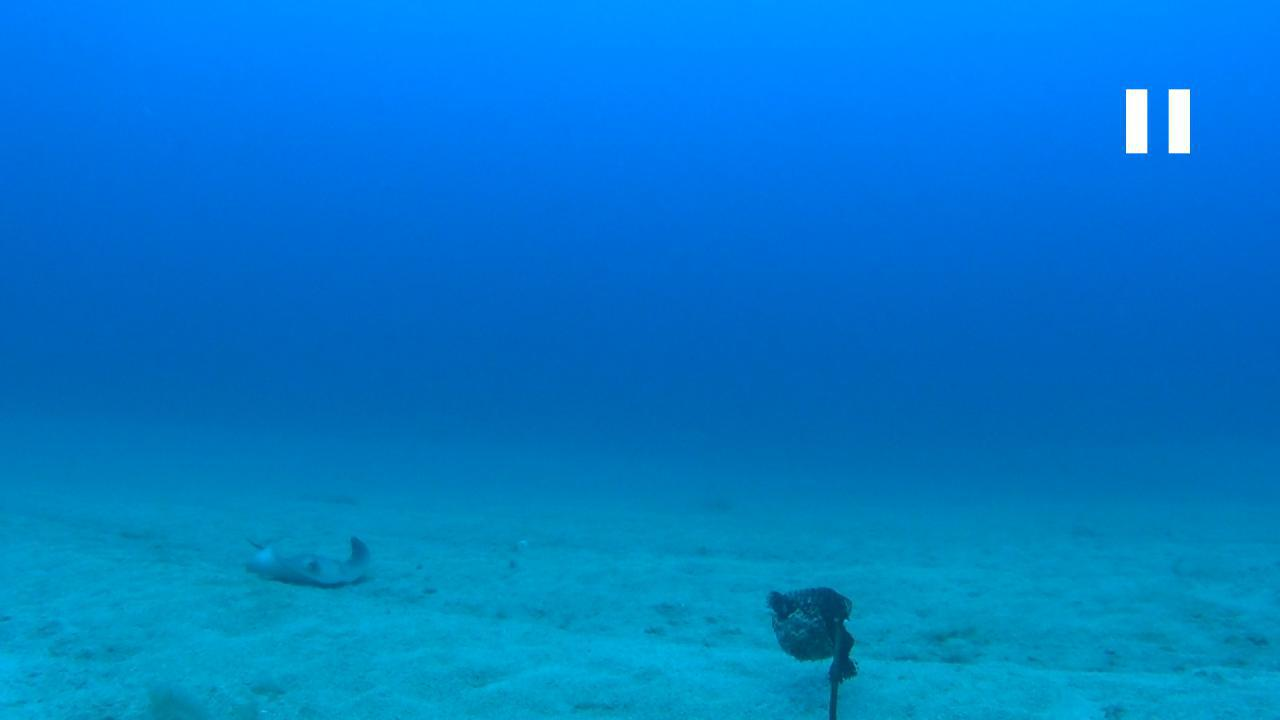dasyatis: (244, 532, 371, 586)
